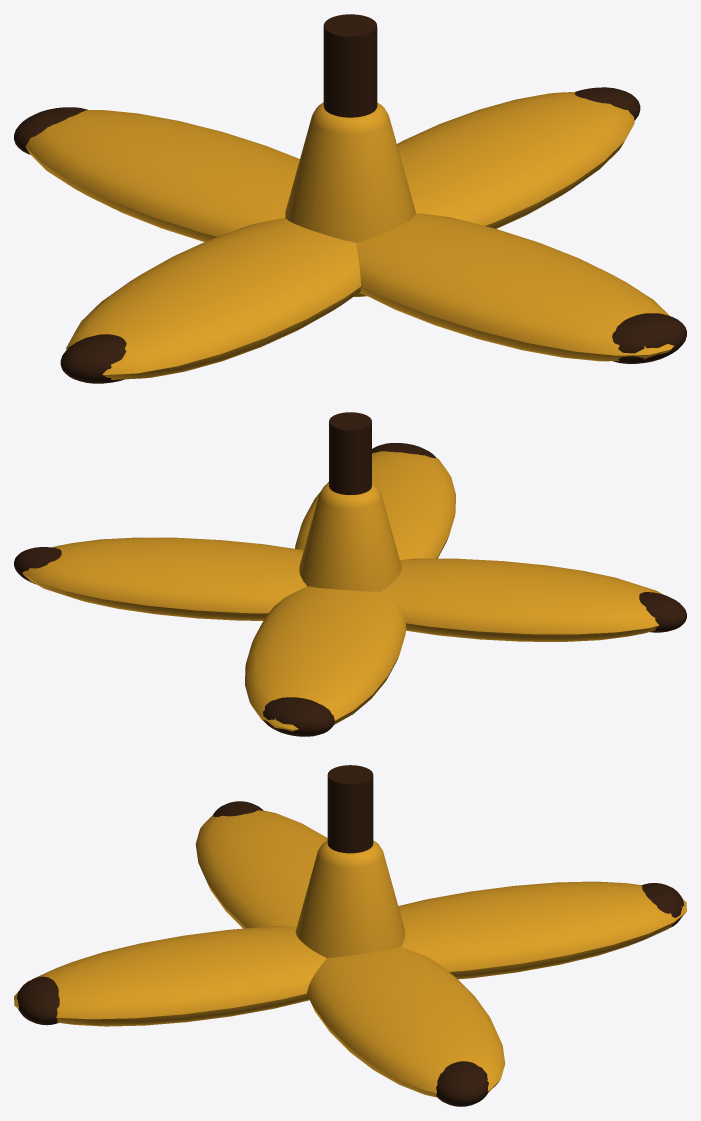
Rendered from banana_peel.glb.
The picture shows the model from 3 angles, top to bottom: view 1: azimuth 30°, elevation 25°; view 2: azimuth 150°, elevation 25°; view 3: azimuth 270°, elevation 25°; orthographic projection. The views are drawn at different scales.
Parts seen in each view (by area): view 1: banana_peel; view 2: banana_peel; view 3: banana_peel.
Boxes of the visible parts, x1=… form: banana_peel: x1=14, y1=14, x2=686, y2=383; banana_peel: x1=14, y1=412, x2=686, y2=736; banana_peel: x1=14, y1=765, x2=686, y2=1106.
Bounding box in the file's own units: 0.1821 × 0.06 × 0.1769.
